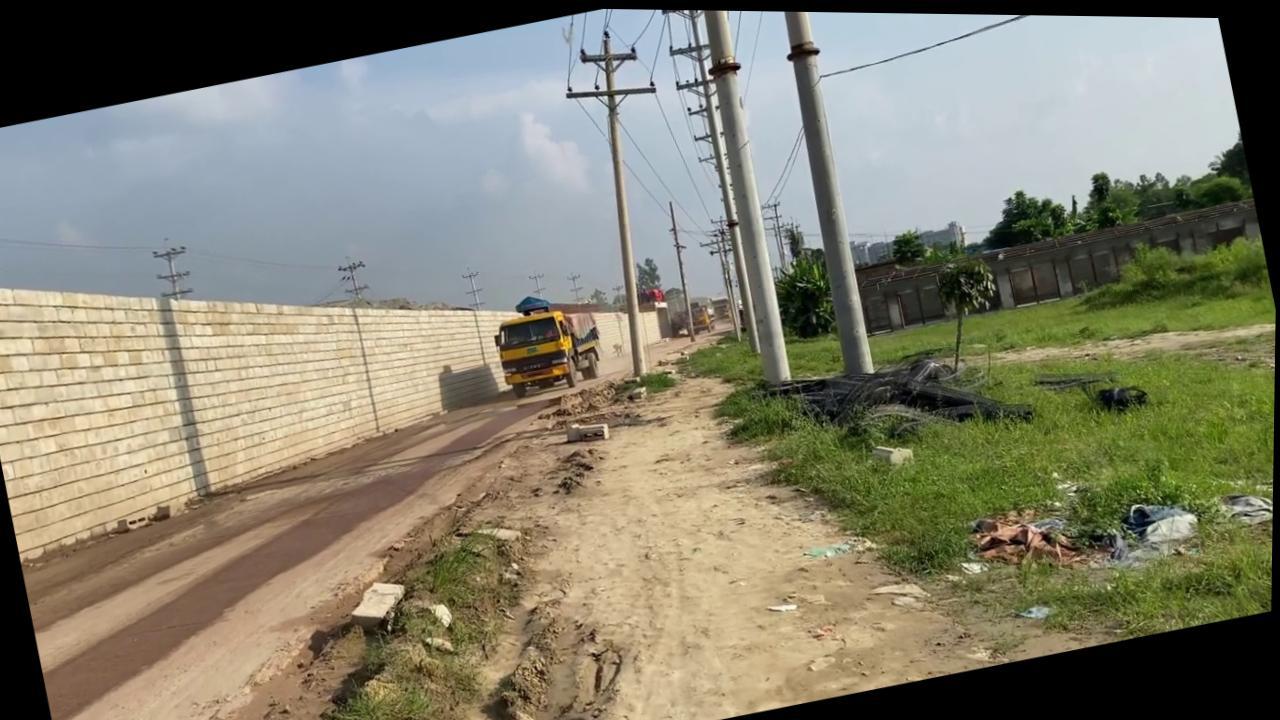Construction-barrier: (0, 146, 673, 570)
Muddy road: (0, 299, 818, 720)
Obstacle: (344, 574, 415, 638), (564, 414, 612, 446)
Pole: (551, 20, 715, 380), (682, 8, 806, 384), (760, 9, 886, 376), (674, 8, 771, 354)
Rickshaw: (381, 270, 1113, 720)
Tree: (485, 280, 609, 400)
